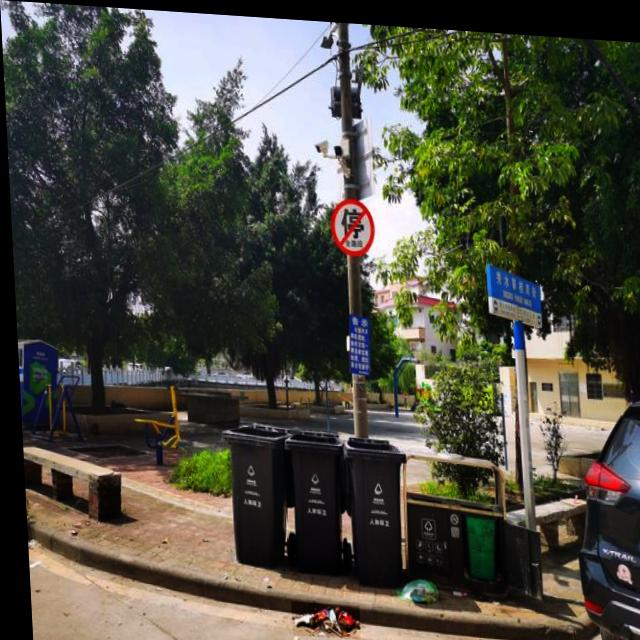garbage: (285, 598, 354, 635), (390, 569, 432, 597)
garbage_bin: (397, 446, 503, 587), (216, 416, 290, 564), (337, 430, 404, 582), (278, 425, 343, 572)
